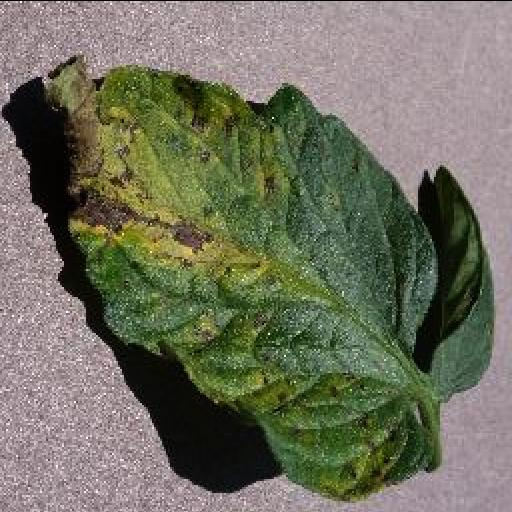disease_tomato: (40, 62, 436, 500)
